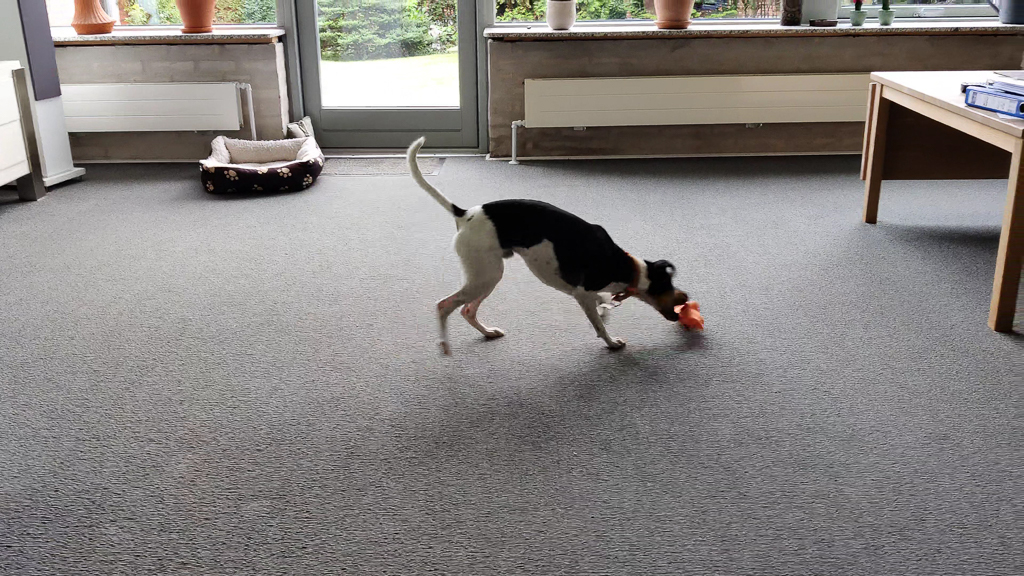Dog: (391, 130, 702, 372)
Eagle: (426, 22, 449, 54)
Humanoid: (69, 0, 120, 26)
